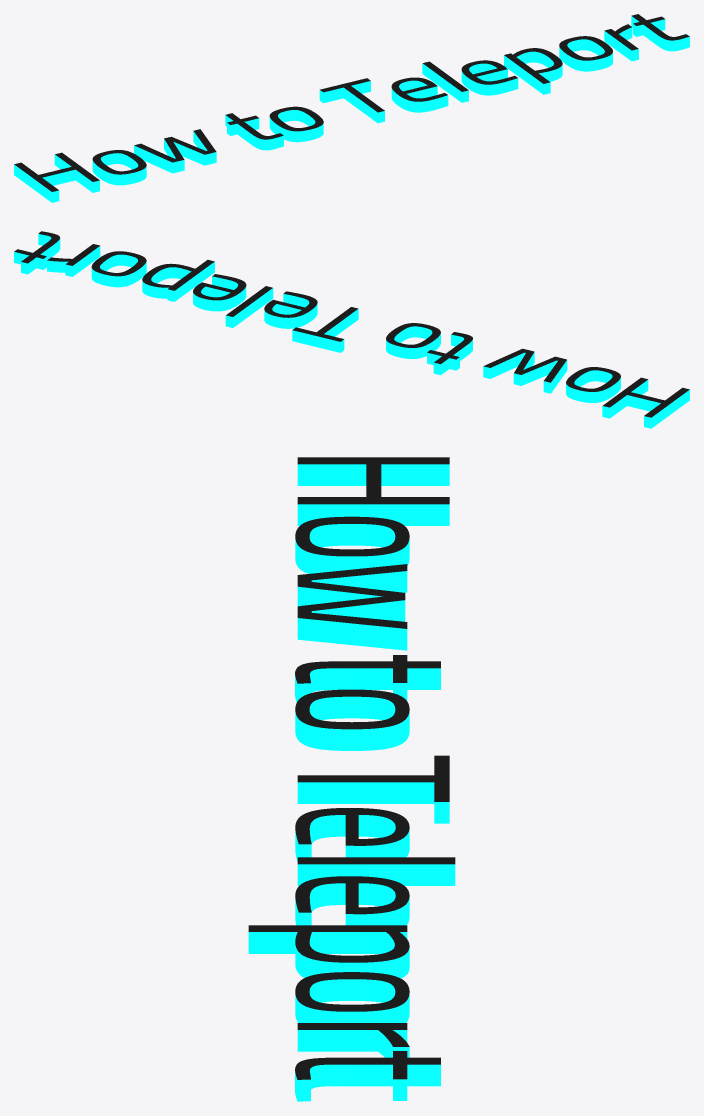
The model's file is teleport-sign.fbx.
The picture shows the model from 3 angles, top to bottom: view 1: azimuth 30°, elevation 25°; view 2: azimuth 150°, elevation 25°; view 3: azimuth 270°, elevation 25°; orthographic projection. The views are drawn at different scales.
Visible parts, largest first — view 1: Text.005; view 2: Text.005; view 3: Text.005.
Part boxes in pixels (box(x1,y1,x2,y2)): Text.005: box(14, 14, 689, 202); Text.005: box(14, 231, 689, 428); Text.005: box(248, 457, 455, 1101).
Size of the model in its own units: 210 by 3.42 by 29.47.
